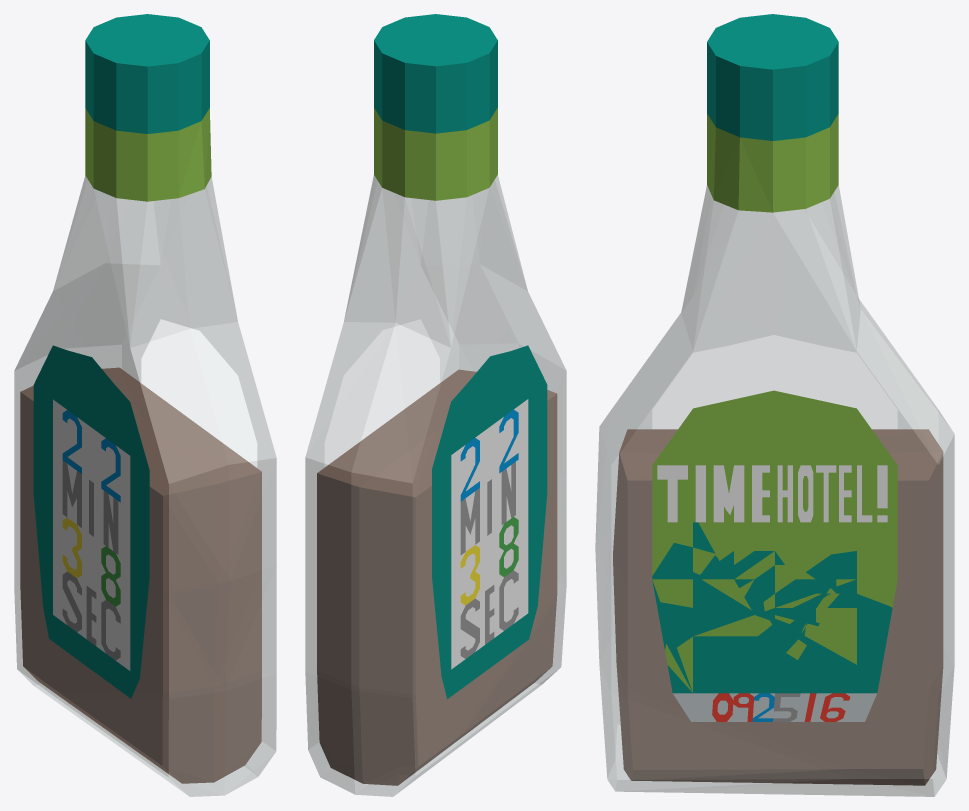
File: vinegar.glb
The picture shows the model from 3 angles, left to right: view 1: azimuth 30°, elevation 25°; view 2: azimuth 150°, elevation 25°; view 3: azimuth 270°, elevation 25°; orthographic projection. The views are drawn at different scales.
Visible parts, largest first — view 1: group143595100, group1623535708, group2114891127; view 2: group143595100, group1623535708, group2114891127; view 3: group143595100, group1623535708, group2114891127.
Part boxes in pixels (x1,y1,x2,y2): group143595100: (14, 176, 276, 796); group1623535708: (20, 367, 261, 783); group2114891127: (85, 14, 211, 201); group143595100: (305, 175, 566, 796); group1623535708: (317, 369, 557, 785); group2114891127: (374, 14, 497, 200); group143595100: (595, 185, 954, 796); group1623535708: (613, 429, 943, 785); group2114891127: (707, 14, 838, 212).
Size of the model in its own units: 0.4913 by 2.97 by 1.31.
